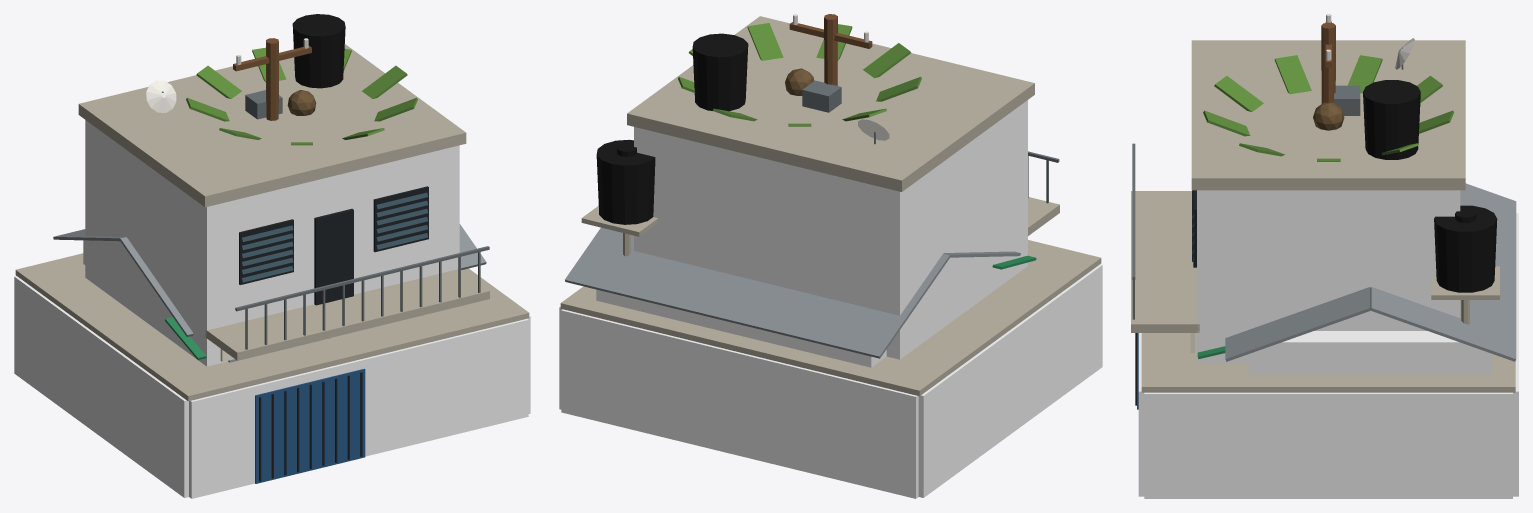
Rendered from street-kit.glb.
3 renders of one model, left to right at view 1: azimuth 30°, elevation 25°; view 2: azimuth 150°, elevation 25°; view 3: azimuth 270°, elevation 25°, orthographic. The views are drawn at different scales.
Parts seen in each view (by area): view 1: kit_compound__tint, kit_storey__tint, kit_storey__concrete, kit_compound__concrete, kit_compound__gate, kit_storey__dark, kit_storey__tank, kit_storey__glass, kit_palm__palm, kit_storey__metal, kit_compound__dark, kit_compound__roof (+5 smaller); view 2: kit_compound__tint, kit_storey__tint, kit_storey__concrete, kit_compound__concrete, kit_compound__roof, kit_compound__tank, kit_storey__tank, kit_palm__palm, kit_pole__wood, kit_pole__metal, kit_container__tint; view 3: kit_compound__tint, kit_storey__concrete, kit_storey__tint, kit_compound__concrete, kit_compound__roof, kit_compound__tank, kit_palm__palm, kit_storey__tank, kit_pole__wood, kit_pole__metal, kit_palm__trunk, kit_storey__metal.
Part boxes in pixels (x1=…): kit_compound__tint: x1=14, y1=240, x2=530, y2=498; kit_storey__tint: x1=85, y1=120, x2=459, y2=366; kit_storey__concrete: x1=78, y1=44, x2=489, y2=360; kit_compound__concrete: x1=15, y1=253, x2=529, y2=401; kit_compound__gate: x1=255, y1=368, x2=365, y2=483; kit_storey__dark: x1=239, y1=186, x2=428, y2=305; kit_storey__tank: x1=292, y1=14, x2=345, y2=88; kit_storey__glass: x1=242, y1=192, x2=428, y2=282; kit_palm__palm: x1=186, y1=47, x2=417, y2=145; kit_storey__metal: x1=162, y1=91, x2=489, y2=349; kit_compound__dark: x1=259, y1=372, x2=362, y2=481; kit_compound__roof: x1=53, y1=224, x2=486, y2=336; kit_compound__tint: x1=559, y1=264, x2=1102, y2=498; kit_storey__tint: x1=634, y1=100, x2=1027, y2=359; kit_storey__concrete: x1=627, y1=16, x2=1059, y2=235; kit_compound__concrete: x1=560, y1=206, x2=1101, y2=396; kit_compound__roof: x1=565, y1=227, x2=1020, y2=358; kit_compound__tank: x1=596, y1=139, x2=655, y2=224; kit_storey__tank: x1=692, y1=33, x2=748, y2=111; kit_palm__palm: x1=678, y1=23, x2=921, y2=126; kit_pole__wood: x1=789, y1=14, x2=872, y2=85; kit_pole__metal: x1=802, y1=80, x2=841, y2=112; kit_container__tint: x1=933, y1=287, x2=974, y2=334; kit_compound__tint: x1=1138, y1=213, x2=1518, y2=498; kit_storey__concrete: x1=1131, y1=40, x2=1465, y2=332; kit_storey__tint: x1=1197, y1=190, x2=1460, y2=363; kit_compound__concrete: x1=1141, y1=266, x2=1515, y2=392; kit_compound__roof: x1=1225, y1=183, x2=1516, y2=361; kit_compound__tank: x1=1434, y1=205, x2=1497, y2=292; kit_palm__palm: x1=1203, y1=55, x2=1454, y2=161; kit_storey__tank: x1=1363, y1=80, x2=1420, y2=159; kit_pole__wood: x1=1321, y1=21, x2=1335, y2=103; kit_pole__metal: x1=1334, y1=85, x2=1360, y2=115; kit_palm__trunk: x1=1313, y1=102, x2=1344, y2=130; kit_storey__metal: x1=1132, y1=47, x2=1403, y2=319.
Bounding box in the file's own units: 8.22 × 8.01 × 7.36.
